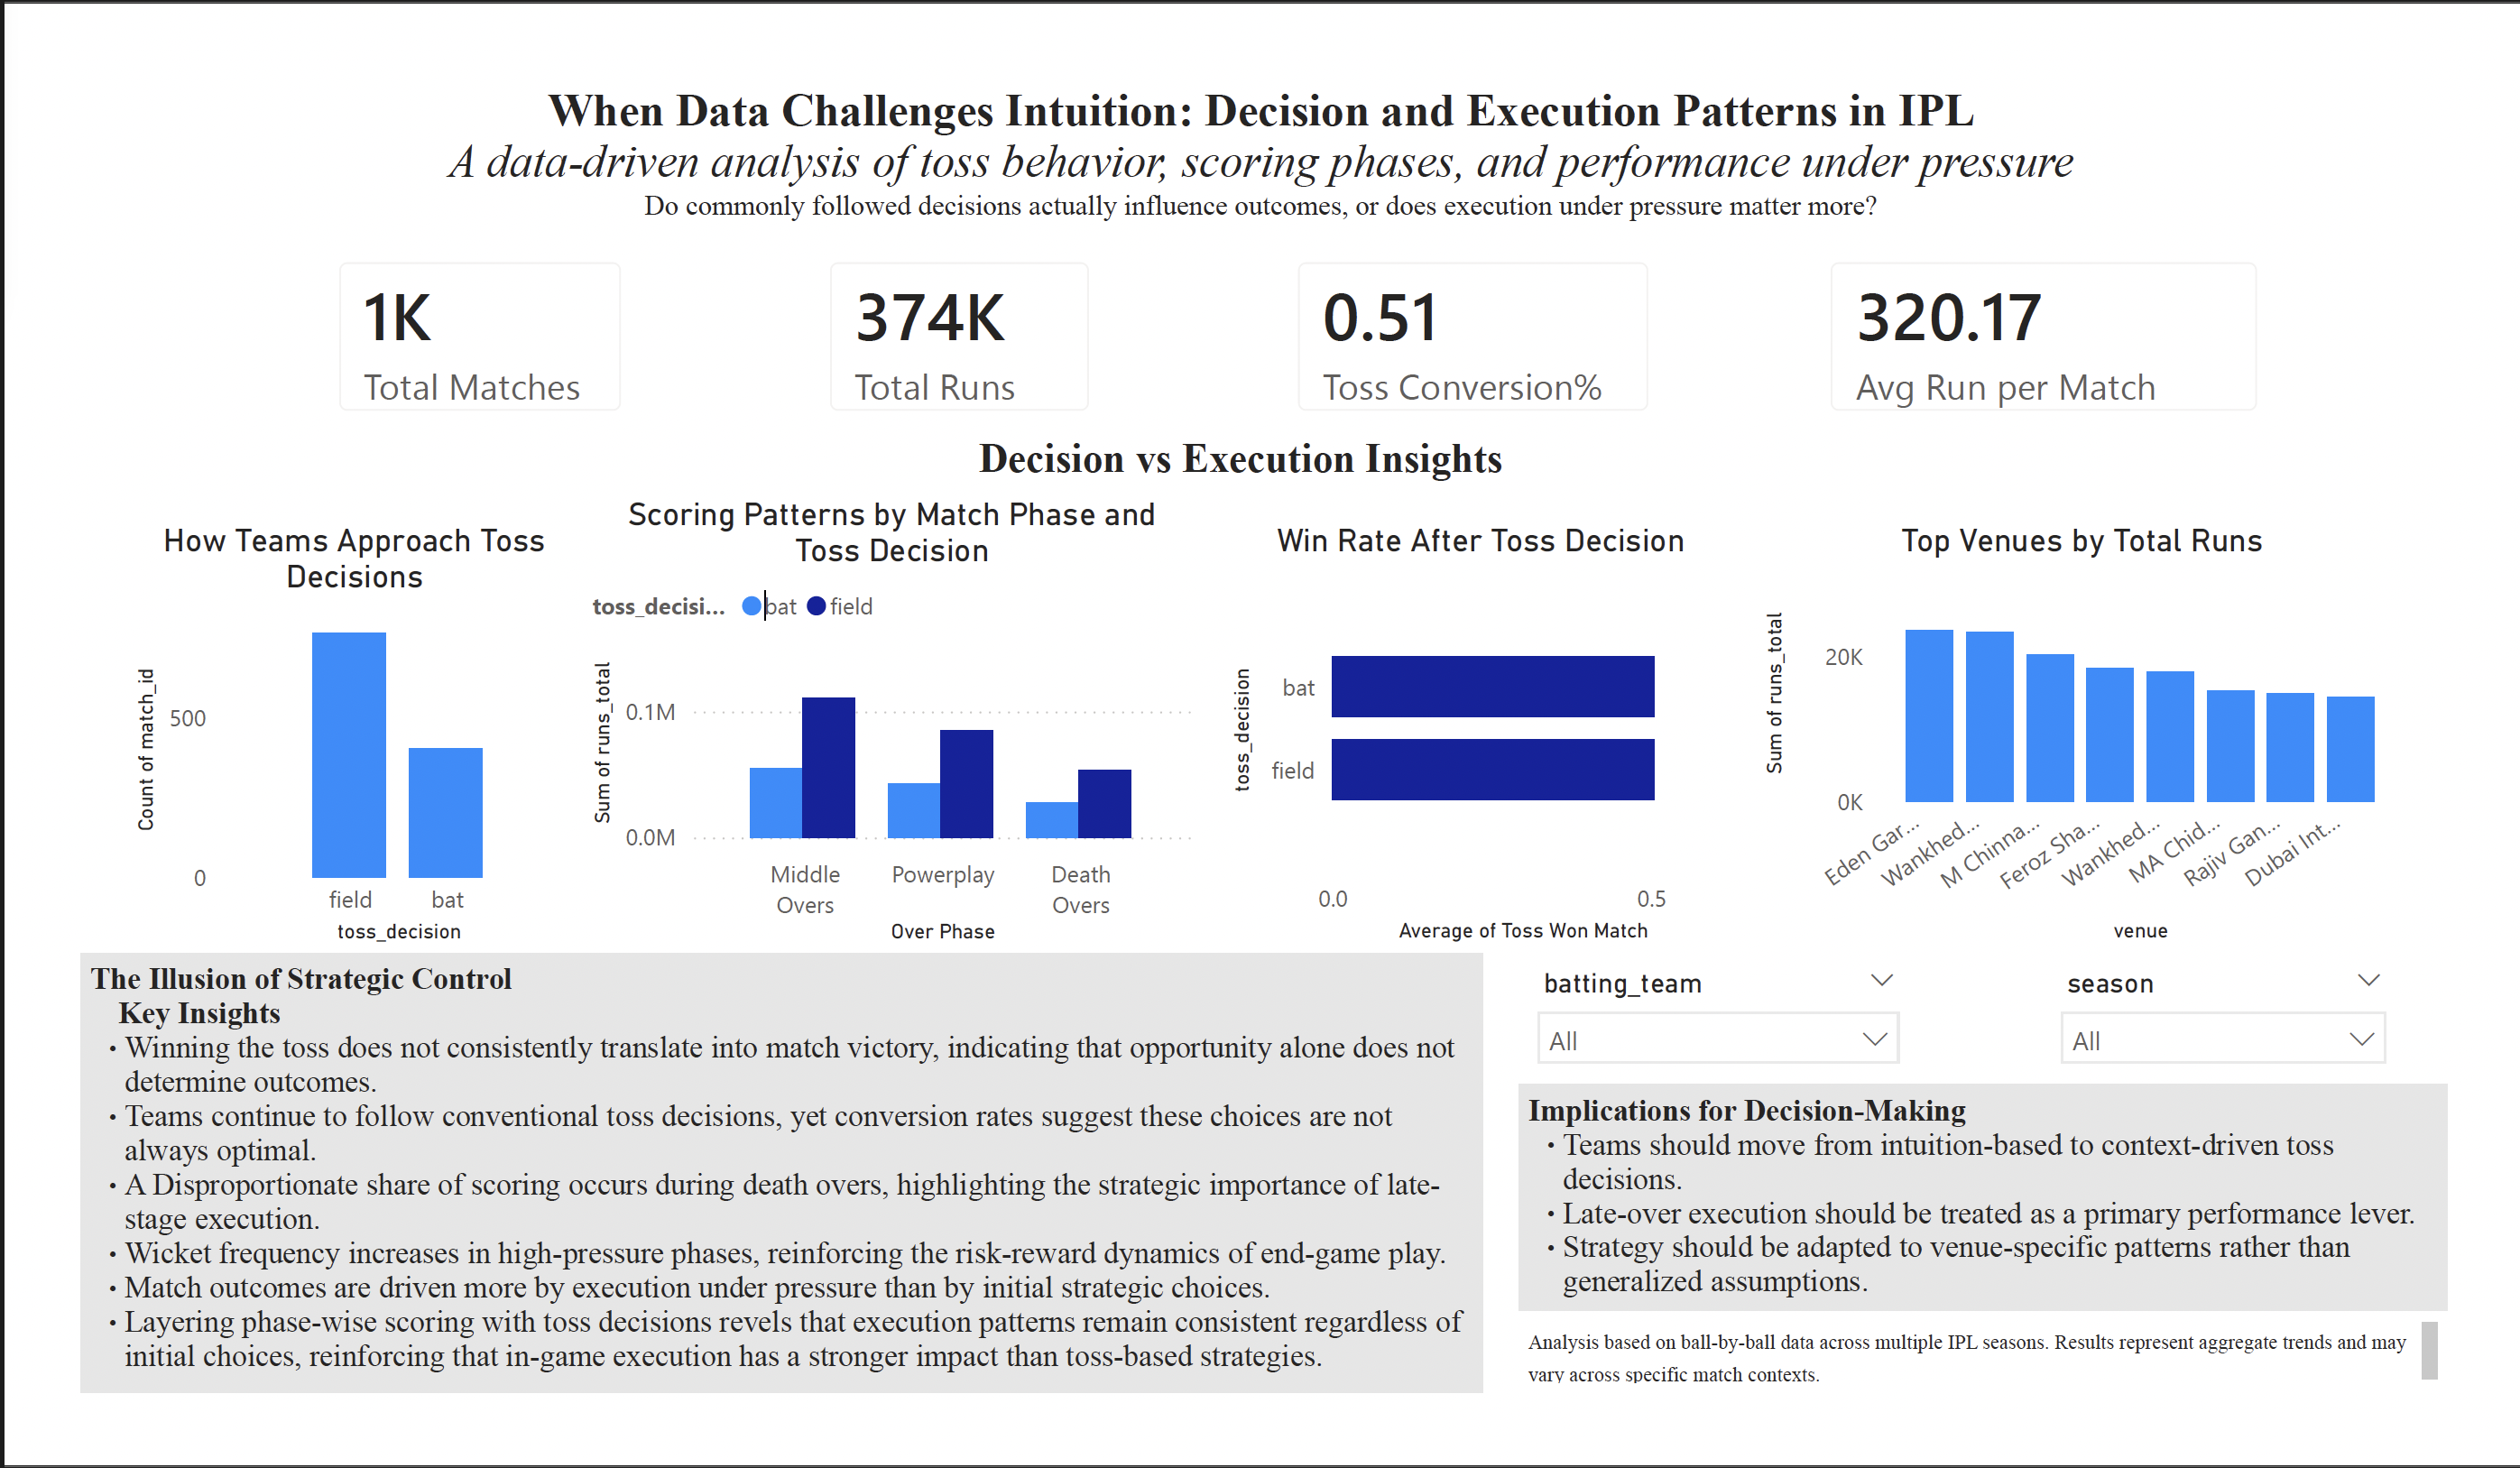

What the dashboard file says about the page in this screenshot:
{"tool":"powerbi","page":{"name":"Page 1","canvas":[1280,720],"ordinal":0},"visuals":[{"type":"cardVisual","fields":{"Data":["IPL.Total Matches"]},"box":[134.5,95.4,182,112],"z":0},{"type":"cardVisual","fields":{"Data":["Match Level.Toss COnversion%"]},"box":[638.5,95.4,218,112],"z":1000},{"type":"clusteredColumnChart","title":"How Teams Approach Toss Decisions","fields":{"Category":["IPL.toss_decision"],"Y":["Count(IPL.match_id)"]},"box":[40,248,240,226],"z":2000},{"type":"clusteredColumnChart","title":"Top Venues by Total Runs","fields":{"Category":["IPL.venue"],"Y":["Sum(IPL.runs_total)"]},"box":[896,248,344,226],"z":3000},{"type":"slicer","fields":{"Values":["IPL.season"]},"box":[1047.2,478.3,190.7,65.6],"z":4000},{"type":"slicer","fields":{"Values":["IPL.batting_team"]},"box":[772.1,478.3,209.4,84.4],"z":5000},{"type":"textbox","box":[15.6,475.1,737.7,231.3],"z":6000},{"type":"textbox","box":[772.1,543.9,487.7,118.8],"z":7000},{"type":"textbox","box":[15.6,14.1,1241,93.8],"z":8000},{"type":"cardVisual","fields":{"Data":["IPL.Total Runs"]},"box":[392.5,95.4,170,112],"z":9000},{"type":"cardVisual","fields":{"Data":["IPL.Avg Run per Match"]},"box":[918.5,95.4,258,112],"z":10000},{"type":"clusteredBarChart","title":"Win Rate After Toss Decision","fields":{"Category":["IPL.toss_decision"],"Y":["Avg(Match Level.Toss Won Match)"]},"box":[616,248,272,226],"z":11000},{"type":"textbox","box":[40,198,1172,36],"z":12000},{"type":"clusteredColumnChart","title":"Scoring Patterns by Match Phase and Toss Decision","fields":{"Category":["IPL.Over Phase"],"Series":["IPL.toss_decision"],"Y":["Sum(IPL.runs_total)"]},"box":[279.7,234.3,325,240],"z":13000},{"type":"textbox","box":[772.1,664.3,487.7,42.2],"z":14000}]}

Visuals, with their boxes on the page's 1280x720 design canvas (x1, y1, x2, y2). These are canvas units, not pixel positions in the 2520x1468 screenshot, which may show the page scaled, cropped or inside an application window:
cardVisual - IPL.Total Matches: [134,95,316,207]
cardVisual - Match Level.Toss COnversion%: [638,95,856,207]
"How Teams Approach Toss Decisions" clusteredColumnChart: [40,248,280,474]
"Top Venues by Total Runs" clusteredColumnChart: [896,248,1240,474]
slicer - IPL.season: [1047,478,1238,544]
slicer - IPL.batting_team: [772,478,982,563]
textbox: [16,475,753,706]
textbox: [772,544,1260,663]
textbox: [16,14,1257,108]
cardVisual - IPL.Total Runs: [392,95,562,207]
cardVisual - IPL.Avg Run per Match: [918,95,1176,207]
"Win Rate After Toss Decision" clusteredBarChart: [616,248,888,474]
textbox: [40,198,1212,234]
"Scoring Patterns by Match Phase and Toss Decision" clusteredColumnChart: [280,234,605,474]
textbox: [772,664,1260,706]
